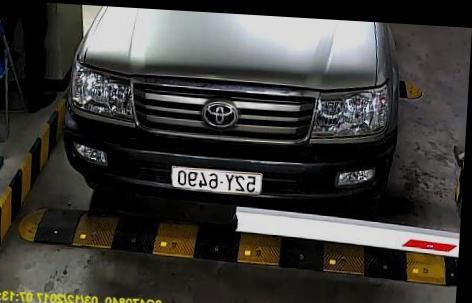License_Plate: (168, 162, 265, 198)
